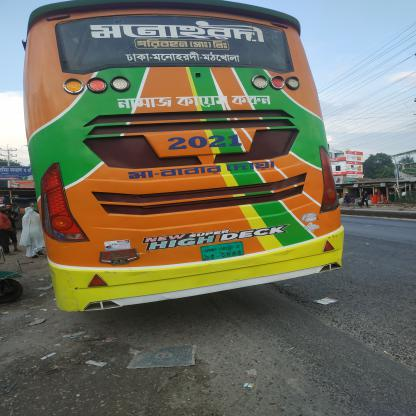license_plate: (198, 239, 252, 263)
